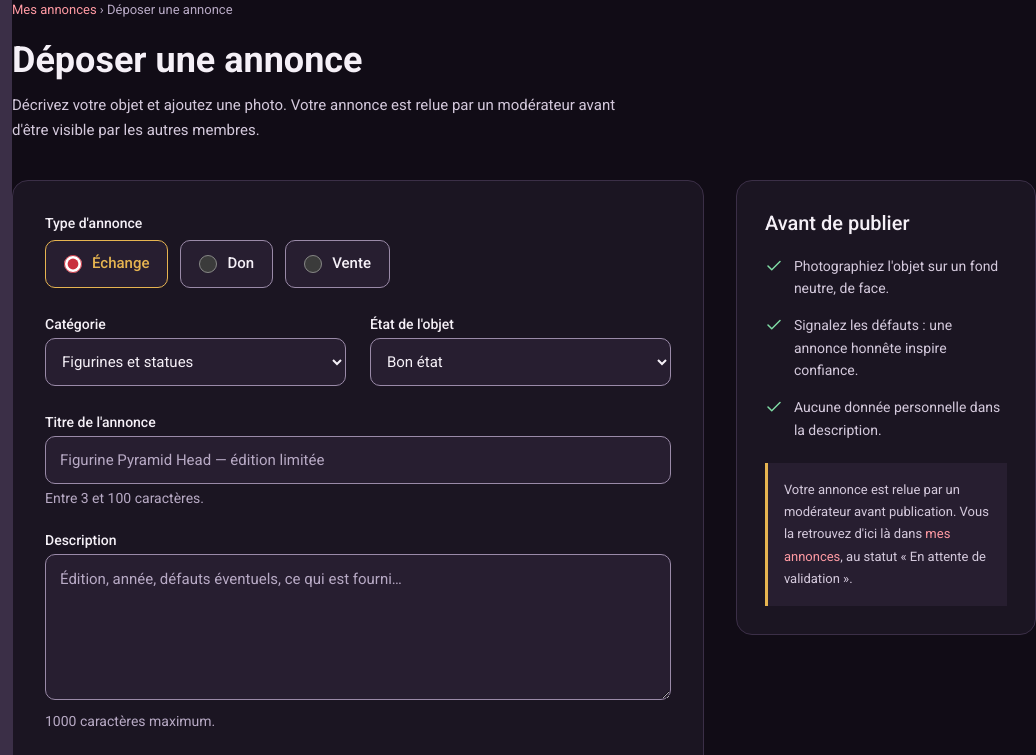
it: ListingForm › type d annonce › n affiche ni prix ni contrepartie pour un don, et le dit
Click the radio button labelled "Don" at (208, 264), box left=200, top=254, right=218, bottom=272
(page scrolled)
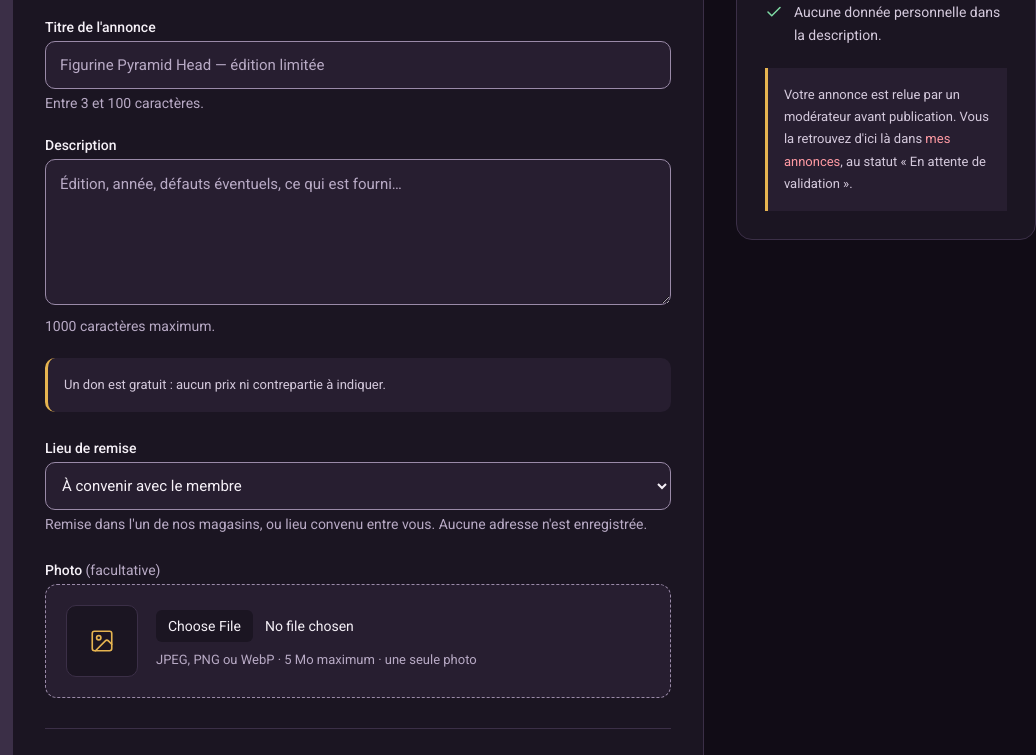
Result: the text "Un don est gratuit : aucun prix ni contrepartie à indiquer." is shown at left=45, top=358, right=671, bottom=412
